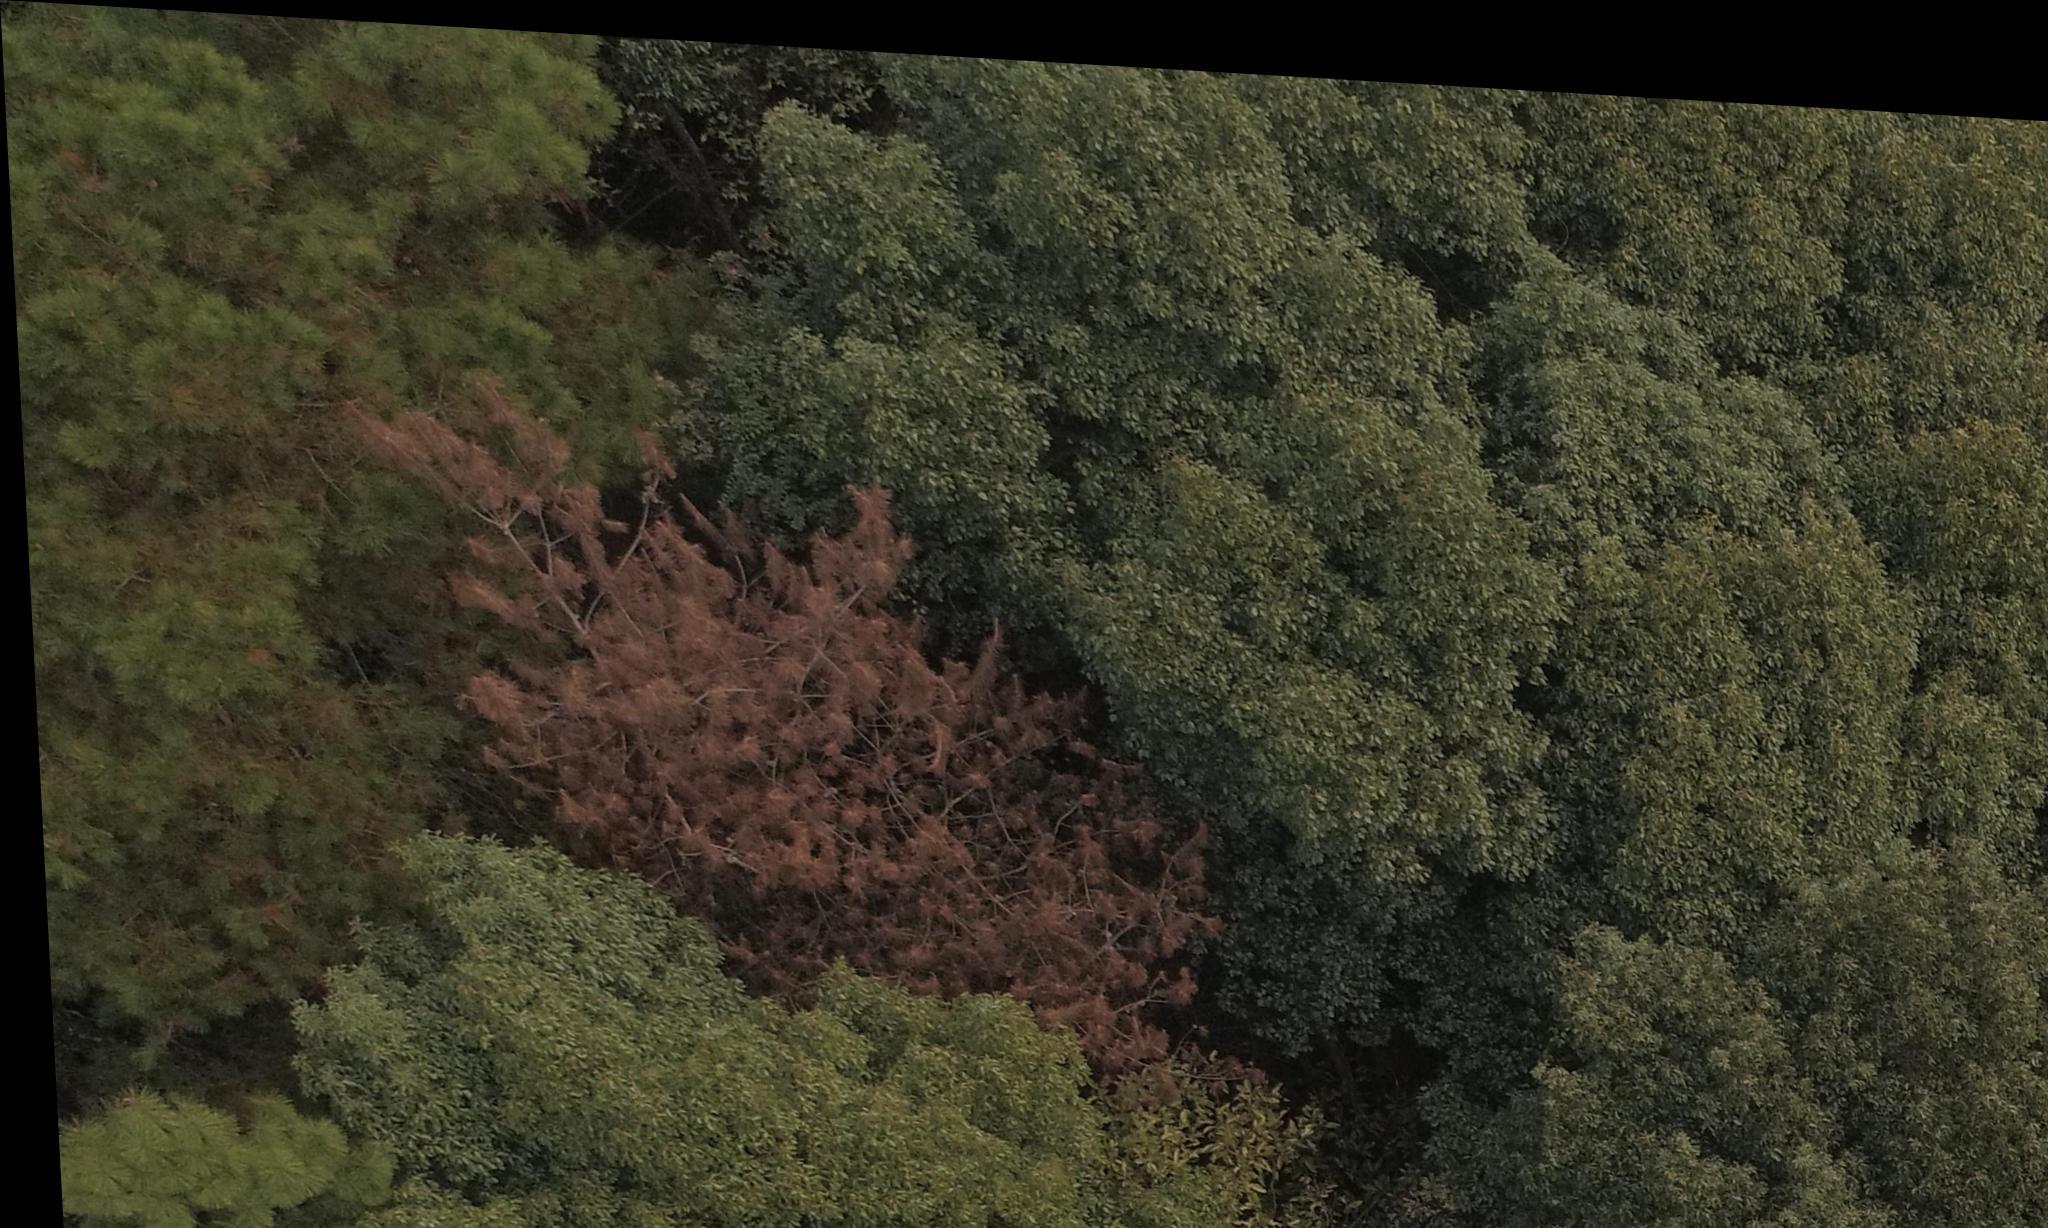heavy: (474, 458, 1191, 1067)
light: (16, 70, 440, 931)
